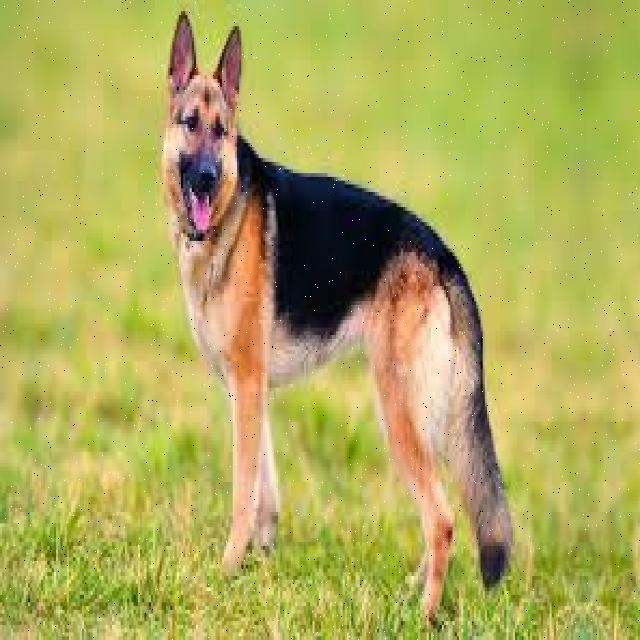GERMAN_SHEPHERD: (149, 0, 525, 621)
